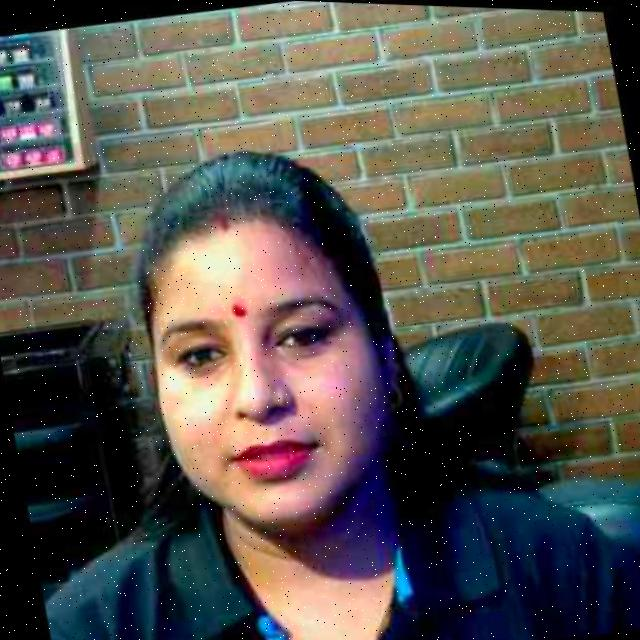puffy_eyes: (178, 358, 230, 384), (273, 340, 329, 363)
